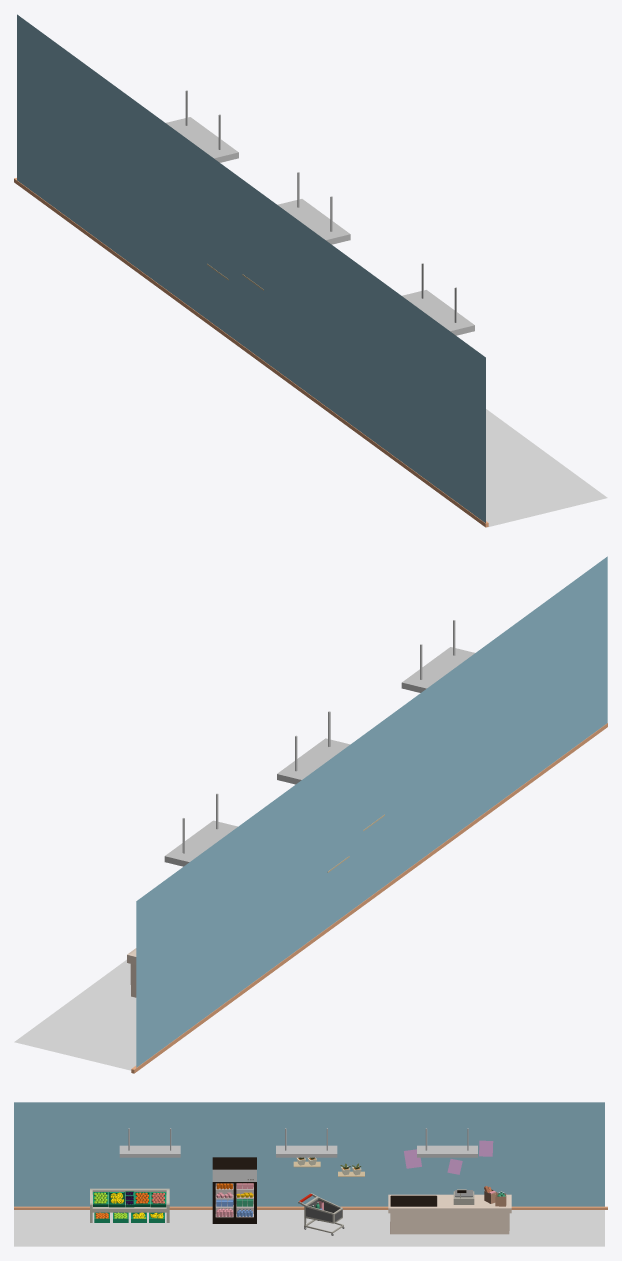
The model's file is LocationShop.fbx.
The picture shows the model from 3 angles, top to bottom: view 1: azimuth 30°, elevation 25°; view 2: azimuth 150°, elevation 25°; view 3: azimuth 270°, elevation 25°; orthographic projection. The views are drawn at different scales.
Visible parts, largest first — view 1: wall, Floor, baseboard, Lamp1, Lamp, Lamp2; view 2: wall, Floor, baseboard, Lamp, Lamp2, Lamp1; view 3: wall, Floor, box_office, fridge, shelf, baseboard, cart, Lamp, Lamp1, Lamp2, Posters, Plants2 (+1 smaller).
Boxes of the visible parts, x1,y1,x2,y2 form: wall: [17, 14, 485, 523]; Floor: [486, 409, 607, 527]; baseboard: [14, 178, 488, 527]; Lamp1: [277, 172, 350, 244]; Lamp: [166, 90, 238, 162]; Lamp2: [402, 263, 474, 335]; wall: [136, 556, 607, 1067]; Floor: [14, 959, 136, 1070]; baseboard: [131, 723, 607, 1073]; Lamp: [164, 793, 237, 866]; Lamp2: [401, 620, 474, 692]; Lamp1: [277, 711, 350, 784]; wall: [14, 1102, 604, 1206]; Floor: [14, 1210, 604, 1246]; box_office: [388, 1186, 511, 1234]; fridge: [212, 1157, 256, 1223]; shelf: [90, 1188, 169, 1222]; baseboard: [14, 1206, 607, 1209]; cart: [298, 1193, 344, 1235]; Lamp: [417, 1128, 477, 1157]; Lamp1: [276, 1128, 337, 1157]; Lamp2: [119, 1128, 180, 1157]; Posters: [404, 1140, 493, 1174]; Plants2: [338, 1163, 364, 1176].
Bounding box in the file's own units: 1135 × 1508 × 7581.
